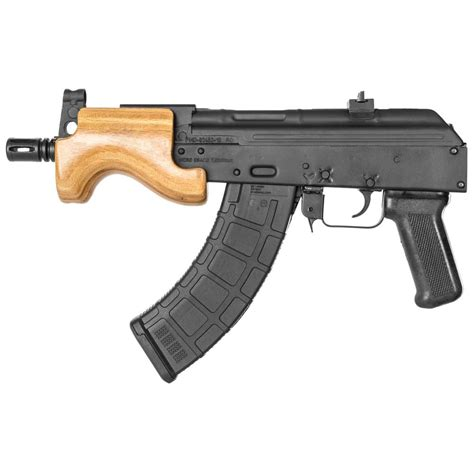gun: (7, 86, 465, 385)
